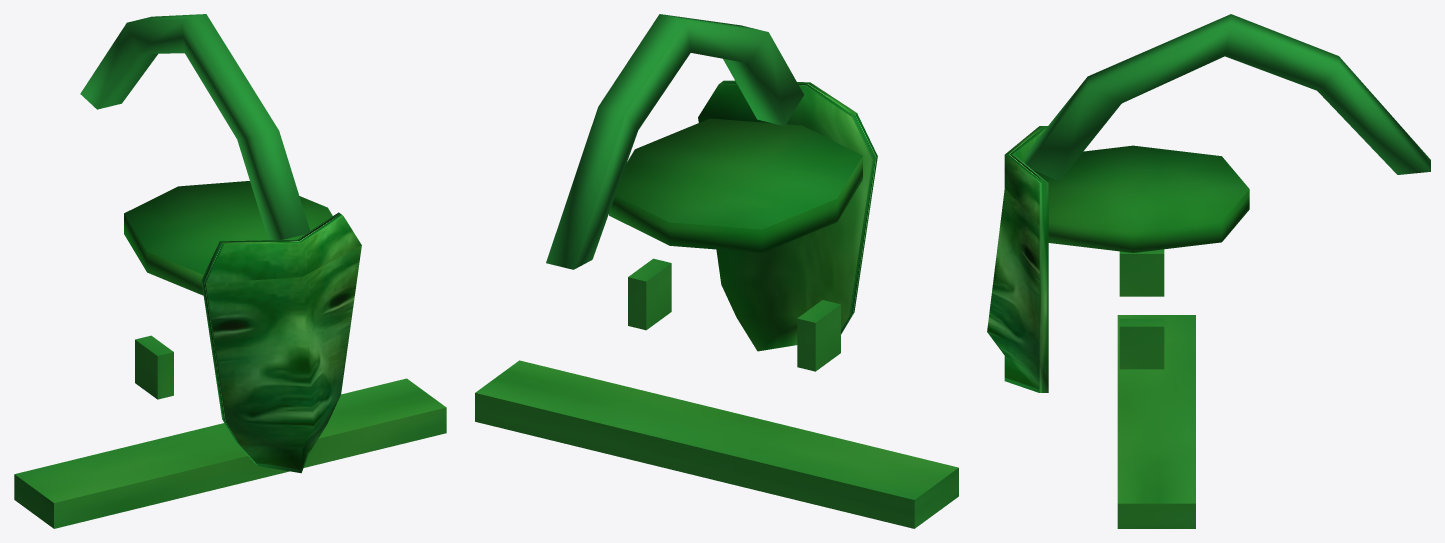
The model's file is masc_olmec_2.dae.
3 renders of one model, left to right at view 1: azimuth 30°, elevation 25°; view 2: azimuth 150°, elevation 25°; view 3: azimuth 270°, elevation 25°, orthographic. The views are drawn at different scales.
Visible parts, largest first — view 1: olmec_masc_2; view 2: olmec_masc_2; view 3: olmec_masc_2.
Boxes of the visible parts, x1,y1,x2,y2 form: olmec_masc_2: (14,14,446,528); olmec_masc_2: (475,14,958,528); olmec_masc_2: (987,14,1430,528).
Size of the model in its own units: 1.03 by 1.03 by 1.06.
